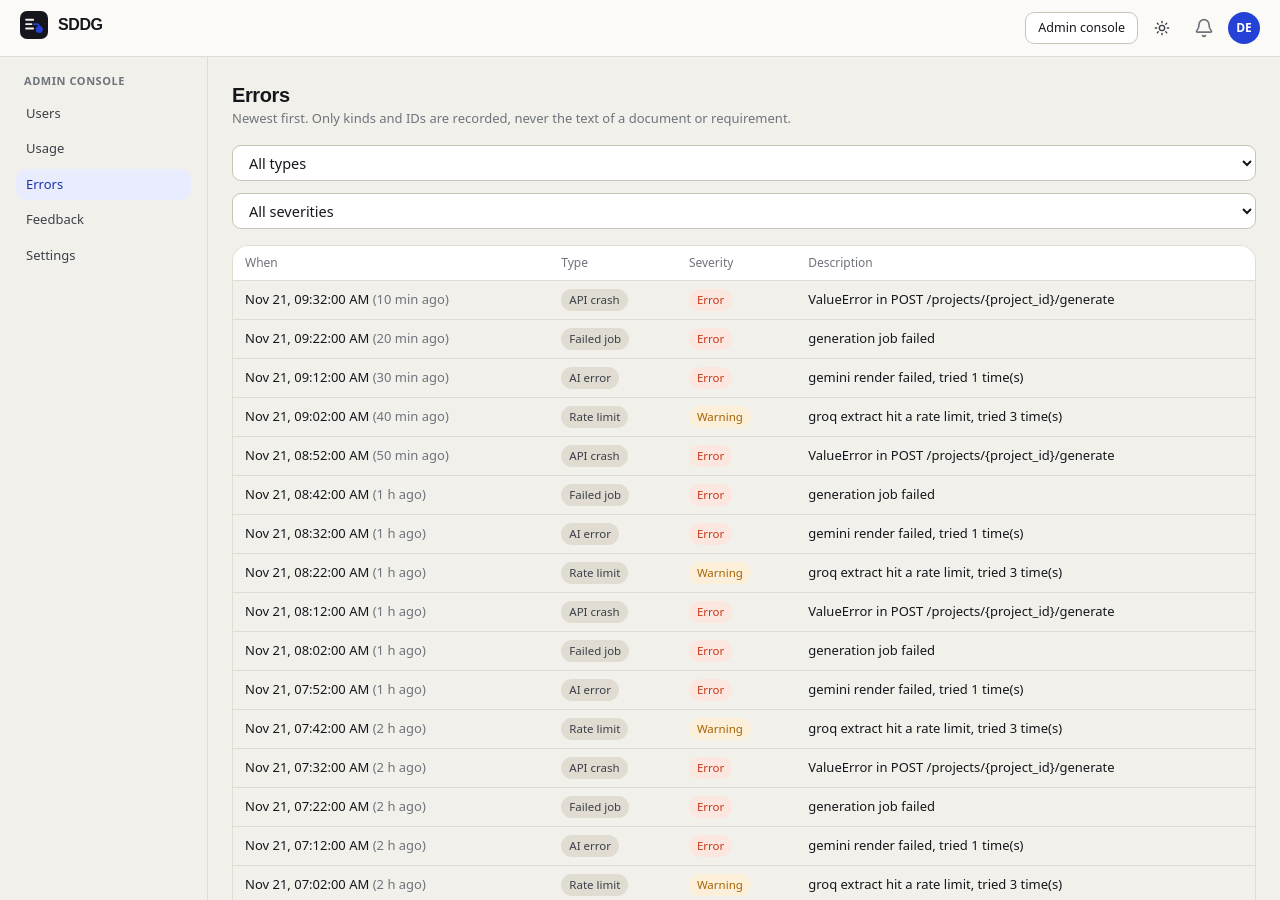
Scenario: FR25d admin Errors page › filters by type and by severity, and pages
Select "Rate limit" in the dropdown named "Type" at (744, 162), box [232,144,1256,180]
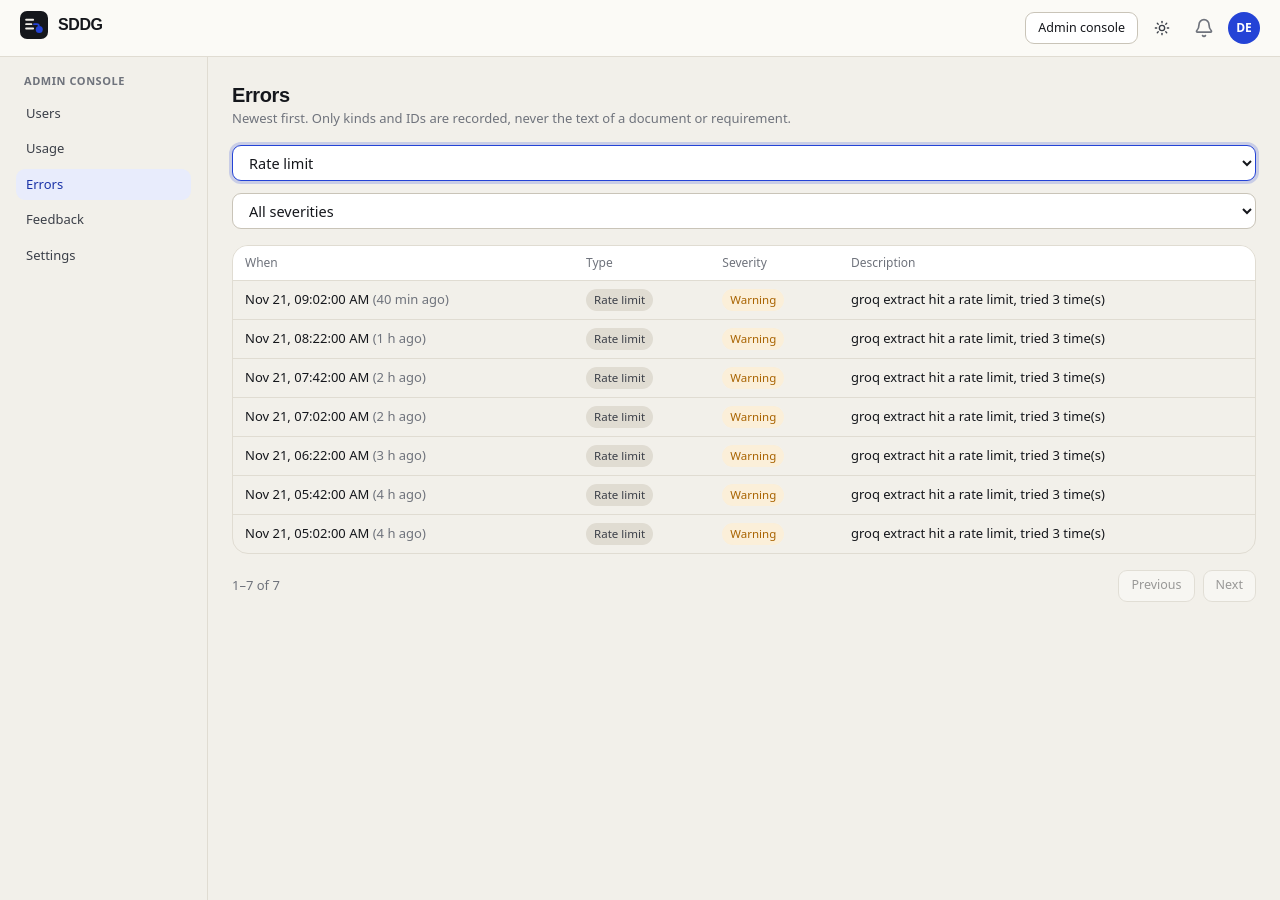
Expected: the text "Warning" in the row of "Nov 21, 09:02:00 AM" is shown, [730,292,776,307]
Expected: the text "1–7 of 7" is shown, [232,576,280,595]
Select "Error" in the dropdown named "Severity" at (744, 210), box [232,192,1256,228]
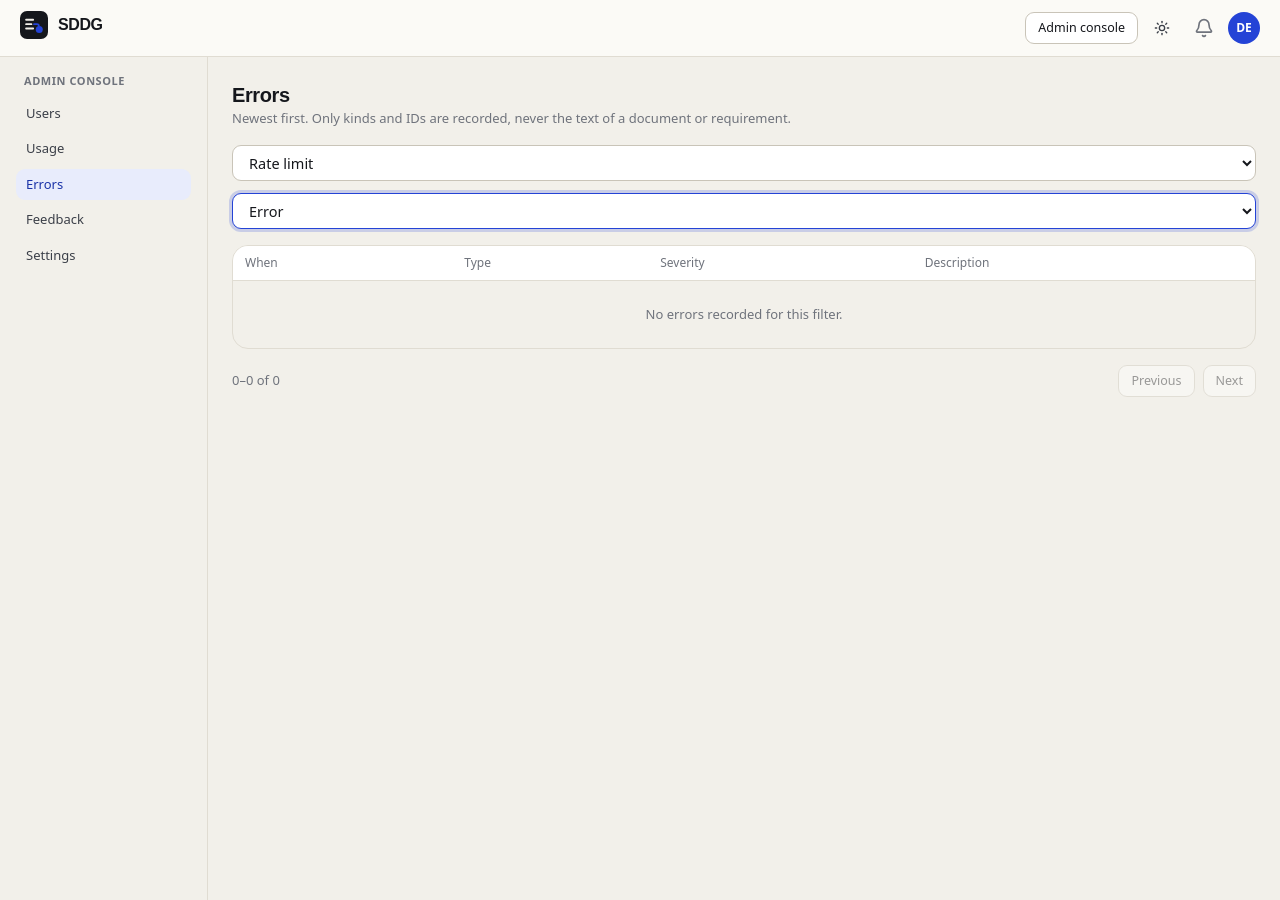
Expected: the text "No errors recorded for this filter." is shown, [233,280,1255,348]
Select "All types" in the dropdown named "Type" at (744, 162), box [232,144,1256,180]
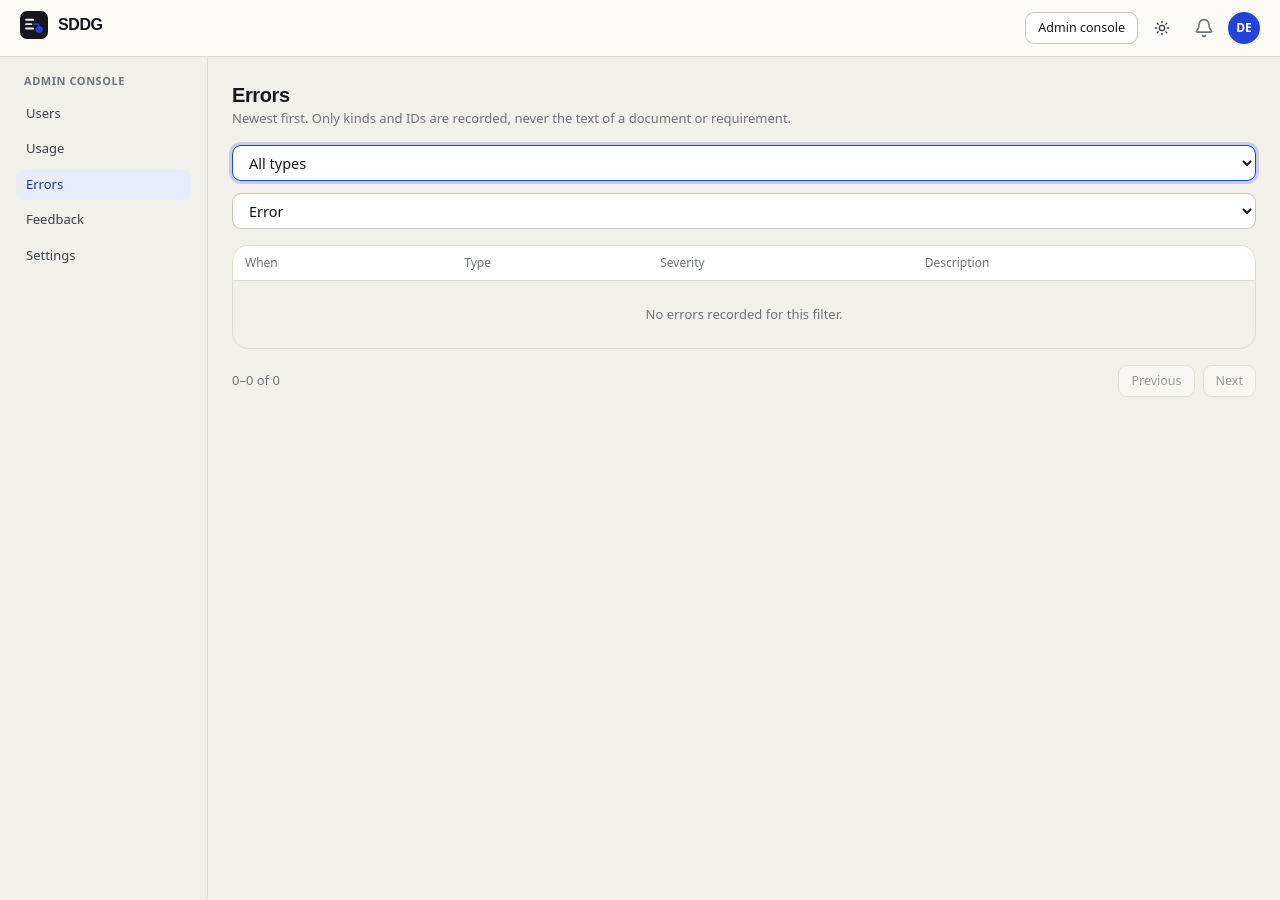
Select "All severities" in the dropdown named "Severity" at (744, 210), box [232,192,1256,228]
(page scrolled)
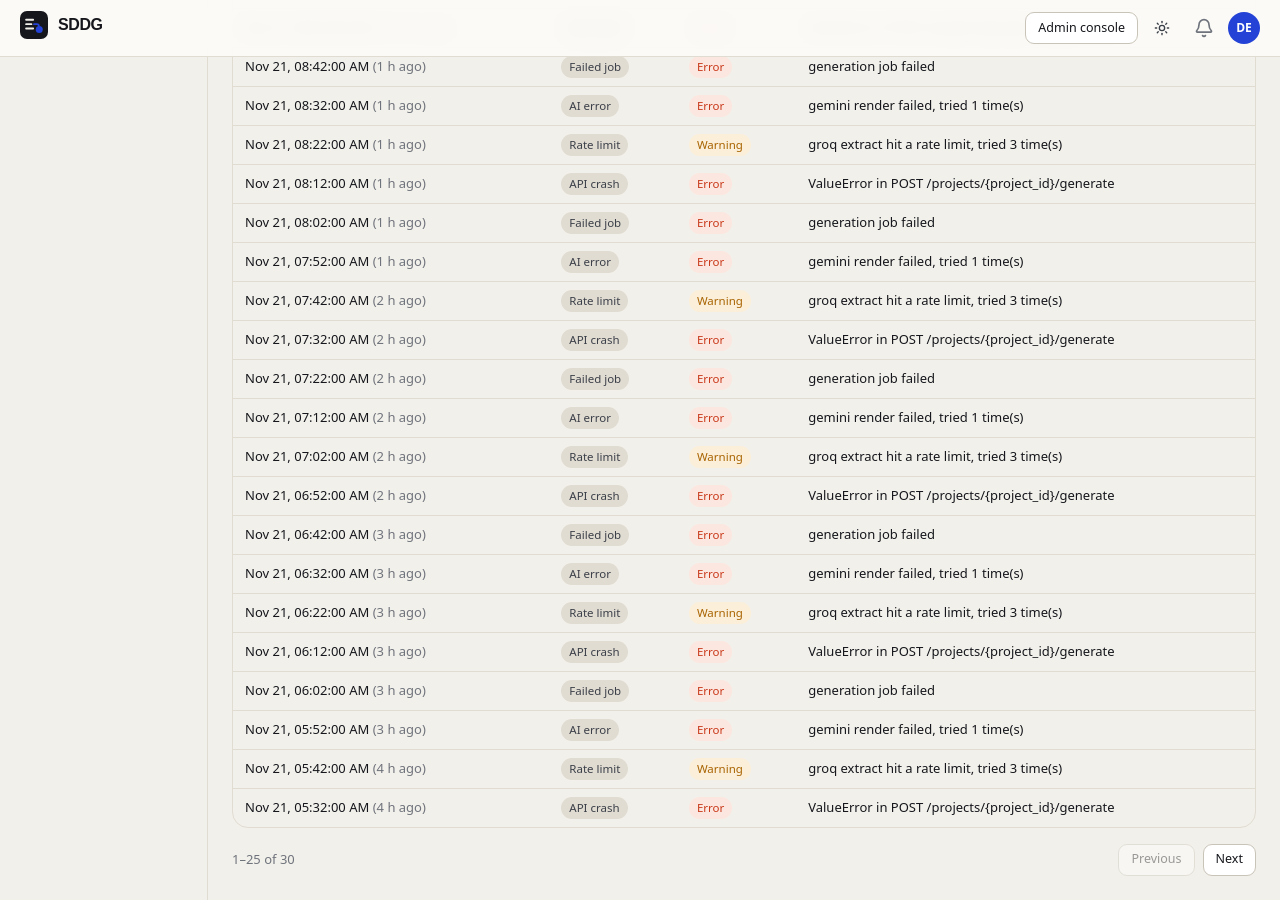
Expected: the text "1–25 of 30" is shown, [232,850,295,869]
Click the button "Next".
click(1229, 860)  # box [1203,844,1256,876]
(page scrolled)
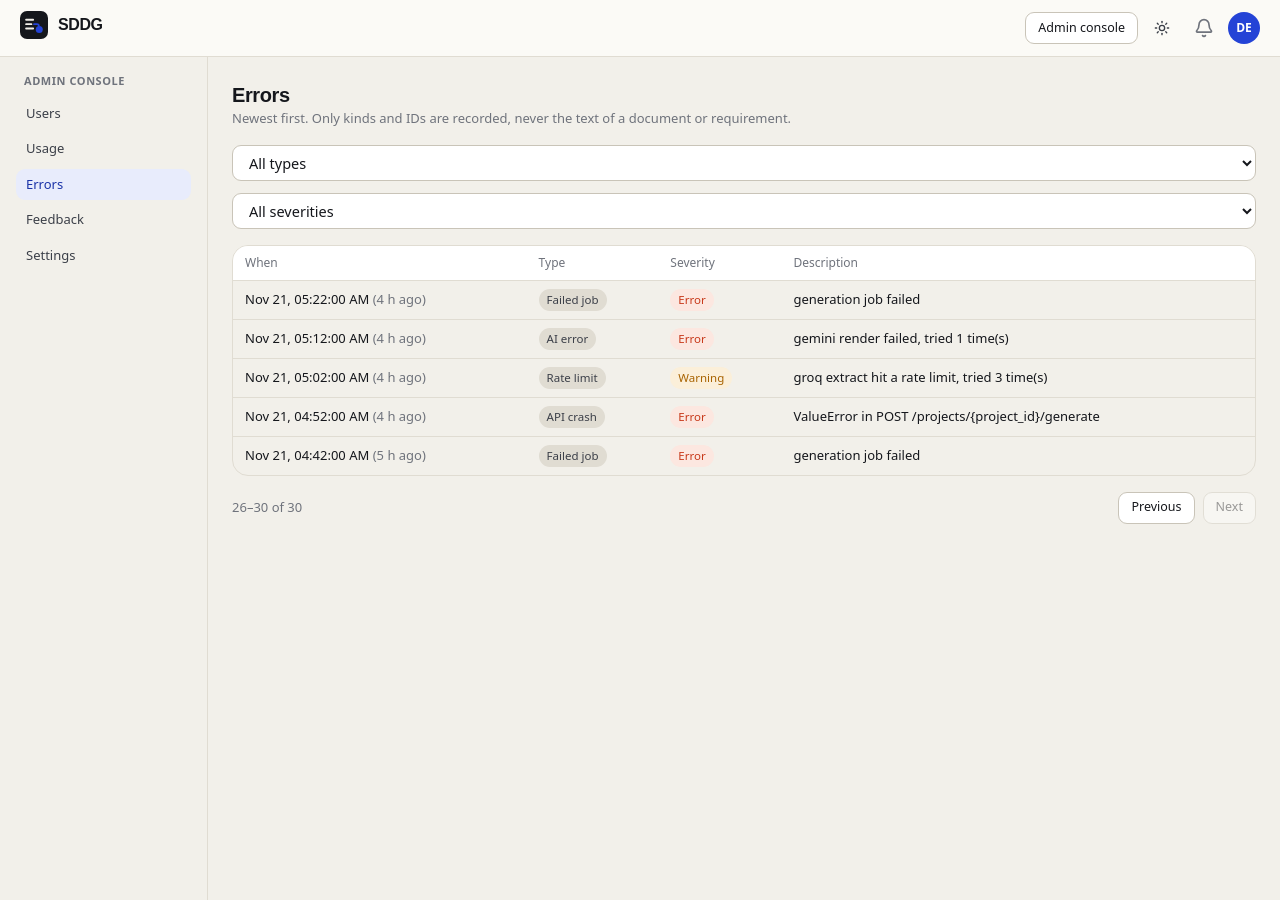
Expected: the text "26–30 of 30" is shown, [232,498,302,517]
